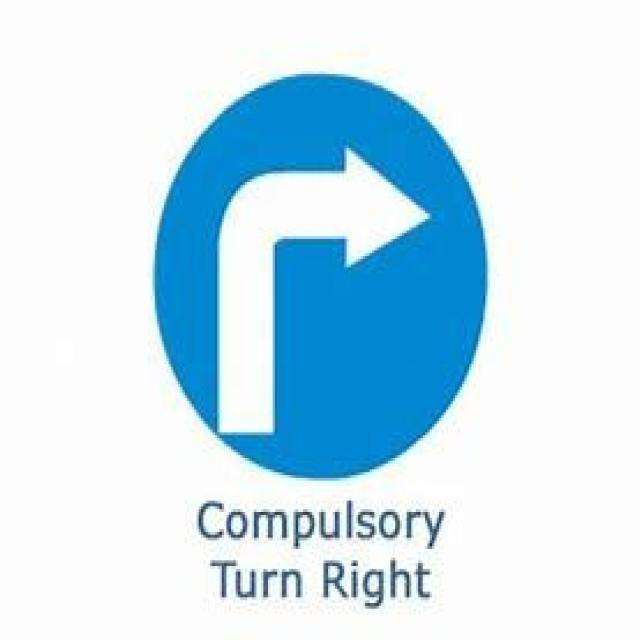COMPULSARY_TURN_RIGHT_AHEAD: (151, 68, 491, 483)
